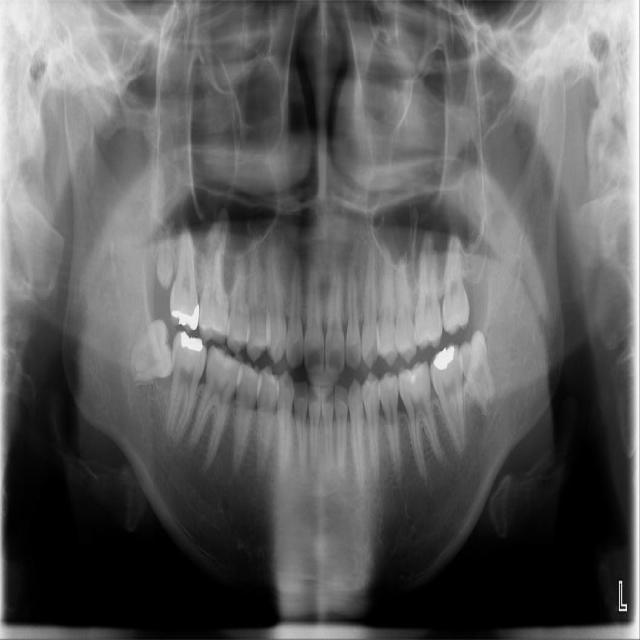3M ESPE Implant: (153, 223, 175, 291)
52: (417, 340, 474, 394), (165, 329, 213, 383), (394, 360, 436, 409), (169, 280, 199, 334)
73: (606, 557, 620, 578)
BioHorizons Implant: (442, 235, 470, 336)
Biomet 3i Implant: (454, 328, 500, 417)
Blue Sky Bio Implant: (429, 341, 466, 453)
Caries: (165, 214, 200, 335)
Implant: (165, 330, 209, 444)
Keystone Dental Implant: (120, 315, 180, 385)
